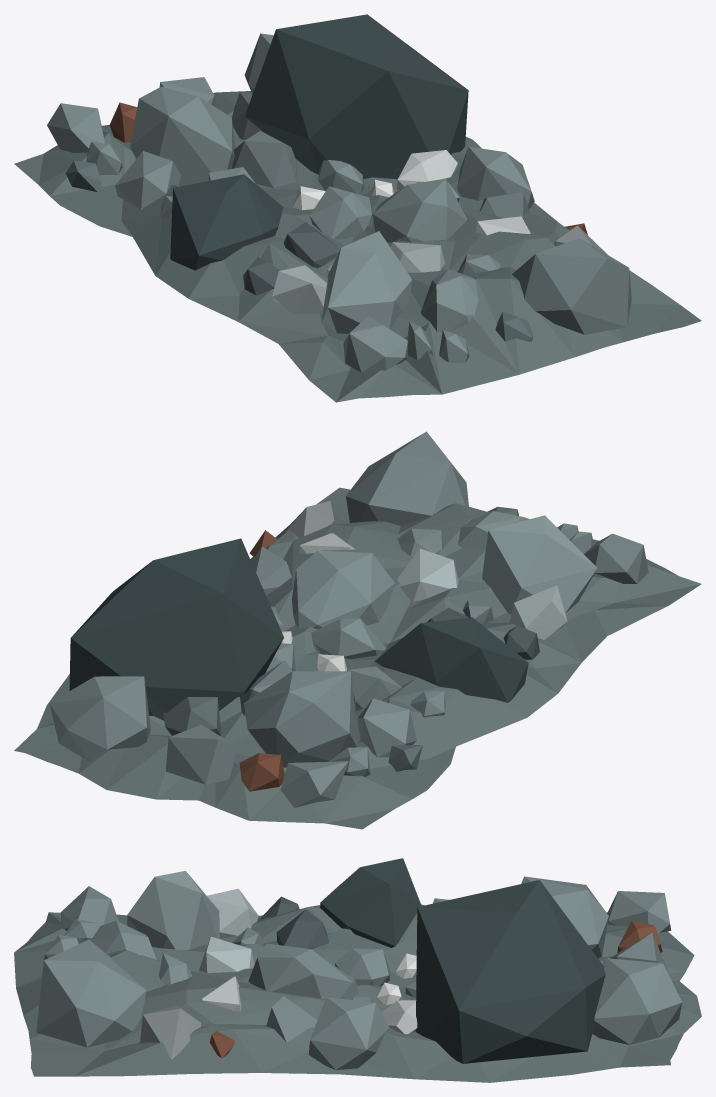
The model's file is Stones.fbx.
3 renders of one model, top to bottom at view 1: azimuth 30°, elevation 25°; view 2: azimuth 150°, elevation 25°; view 3: azimuth 270°, elevation 25°, orthographic. The views are drawn at different scales.
Visible parts, largest first — view 1: Stones; view 2: Stones; view 3: Stones.
Part boxes in pixels (x1,y1,x2,y2): Stones: (14, 14, 701, 402); Stones: (14, 431, 701, 829); Stones: (14, 858, 701, 1082).
Size of the model in its own units: 171 by 62.65 by 287.
